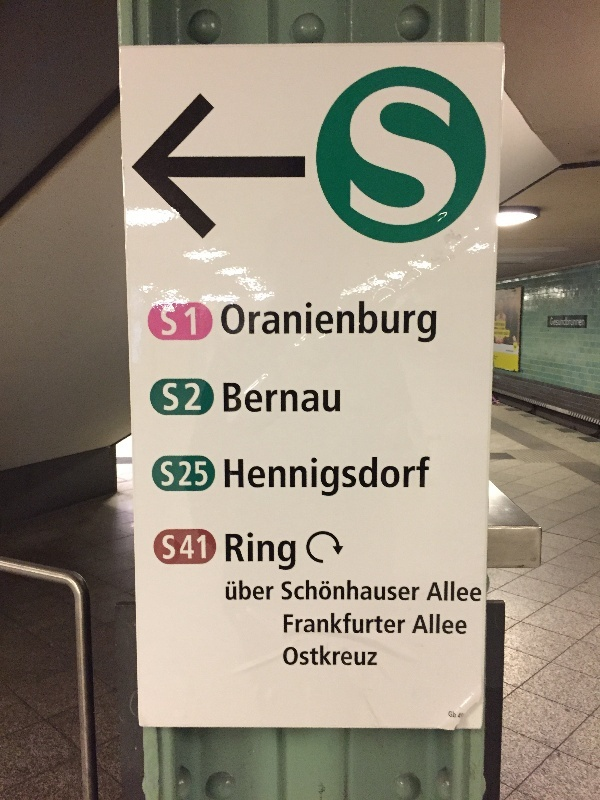text: (353, 86, 368, 233), (369, 86, 384, 233), (385, 86, 400, 233), (401, 86, 416, 233), (417, 86, 432, 233), (433, 86, 448, 233), (449, 86, 460, 233), (225, 299, 240, 345), (241, 299, 256, 345), (257, 299, 272, 345), (273, 299, 288, 345), (289, 299, 304, 345), (305, 299, 320, 345), (321, 299, 336, 345), (337, 299, 352, 345), (353, 299, 368, 345), (369, 299, 384, 345), (385, 299, 400, 345), (401, 299, 416, 345), (417, 299, 432, 345), (225, 455, 240, 498), (241, 455, 256, 498), (257, 455, 272, 498), (273, 455, 288, 498), (289, 455, 304, 498), (305, 455, 320, 498), (321, 455, 336, 498), (337, 455, 352, 498), (353, 455, 368, 498), (369, 455, 384, 498), (385, 455, 400, 498), (401, 455, 416, 498), (241, 530, 256, 572), (257, 530, 272, 572), (273, 530, 288, 572), (417, 455, 431, 498), (226, 530, 240, 572), (161, 305, 176, 336), (177, 305, 192, 336), (225, 383, 240, 414), (241, 383, 256, 414), (257, 383, 272, 414), (273, 383, 288, 414), (289, 383, 304, 414), (305, 383, 320, 414), (321, 383, 336, 414), (177, 382, 192, 412), (177, 530, 192, 560), (349, 86, 352, 233), (193, 460, 209, 487), (161, 460, 176, 487), (177, 460, 192, 487), (163, 382, 176, 412), (163, 530, 176, 560), (193, 530, 206, 560), (289, 577, 304, 602), (305, 577, 320, 602), (321, 577, 336, 602), (337, 577, 352, 602), (353, 577, 368, 602), (369, 577, 384, 602), (385, 577, 400, 602), (401, 577, 416, 602), (433, 580, 448, 603), (449, 580, 464, 603), (465, 580, 480, 603), (289, 613, 304, 636), (305, 613, 320, 636), (321, 613, 336, 636), (337, 613, 352, 636), (353, 613, 368, 636), (369, 613, 384, 636), (385, 613, 400, 636), (433, 613, 448, 636), (449, 613, 464, 636), (241, 580, 256, 602), (257, 580, 272, 602), (289, 645, 304, 666), (305, 645, 320, 666), (321, 645, 336, 666), (337, 645, 352, 666), (353, 645, 368, 666), (419, 613, 432, 636), (289, 530, 296, 572), (227, 580, 240, 602), (193, 382, 201, 412), (433, 299, 438, 345), (369, 645, 378, 666), (281, 577, 288, 602), (401, 613, 408, 636), (561, 318, 576, 327), (337, 383, 341, 414), (417, 577, 421, 602), (193, 305, 196, 336), (222, 299, 224, 345), (284, 613, 288, 636), (550, 318, 560, 327), (284, 645, 288, 666), (577, 318, 586, 327), (465, 613, 468, 636), (273, 580, 276, 602), (497, 331, 509, 336), (481, 580, 483, 603), (514, 345, 528, 348), (497, 322, 505, 327), (495, 322, 496, 327), (495, 331, 496, 336)
